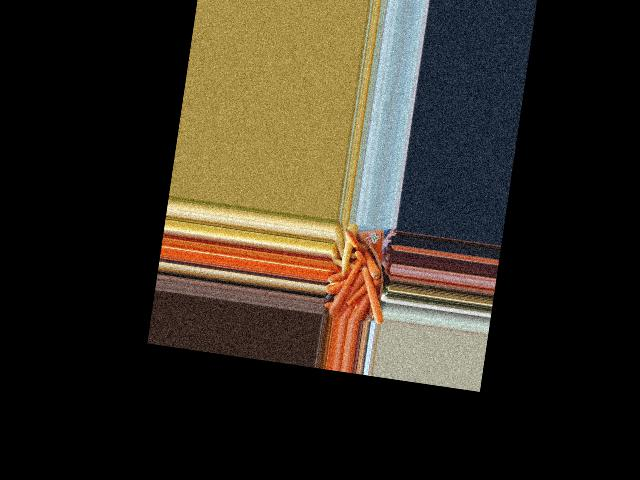carrot: (361, 245, 386, 278)
